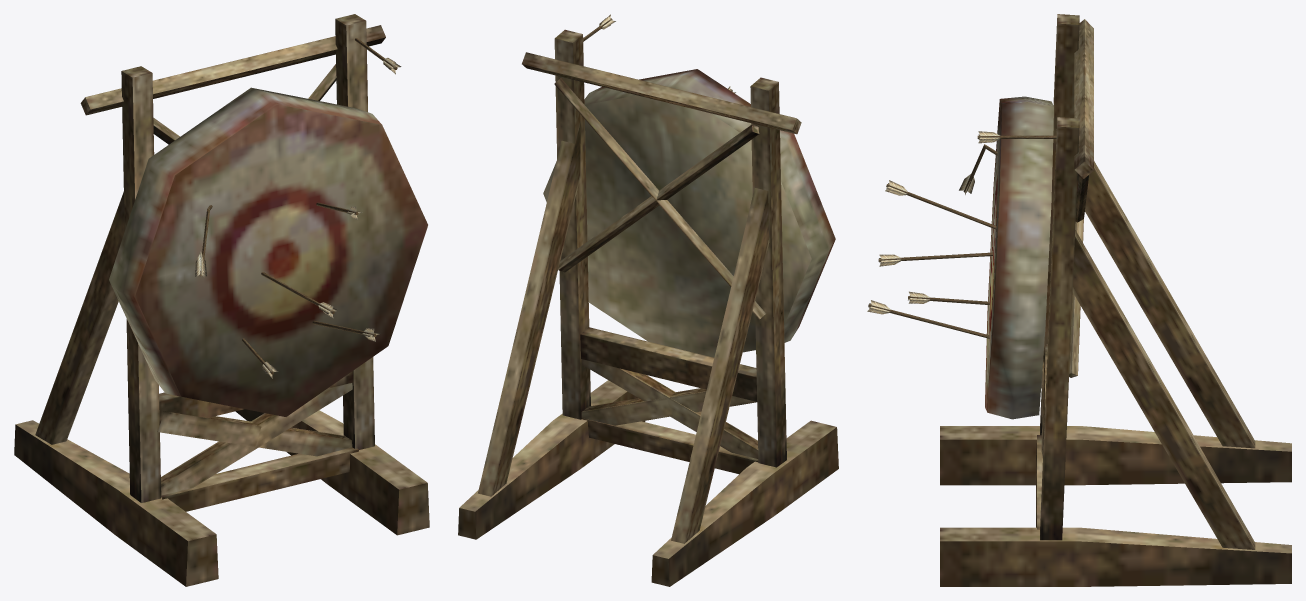
Rendered from general_obj_target 01-01.fbx.
The picture shows the model from 3 angles, left to right: view 1: azimuth 30°, elevation 25°; view 2: azimuth 150°, elevation 25°; view 3: azimuth 270°, elevation 25°; orthographic projection. The views are drawn at different scales.
Visible parts, largest first — view 1: Sphere03; view 2: Sphere03; view 3: Sphere03.
Boxes of the visible parts, x1,y1,x2,y2 form: Sphere03: (14,14,429,586); Sphere03: (458,14,838,586); Sphere03: (867,14,1291,586).
Size of the model in its own units: 1.87 by 2.75 by 2.31.
